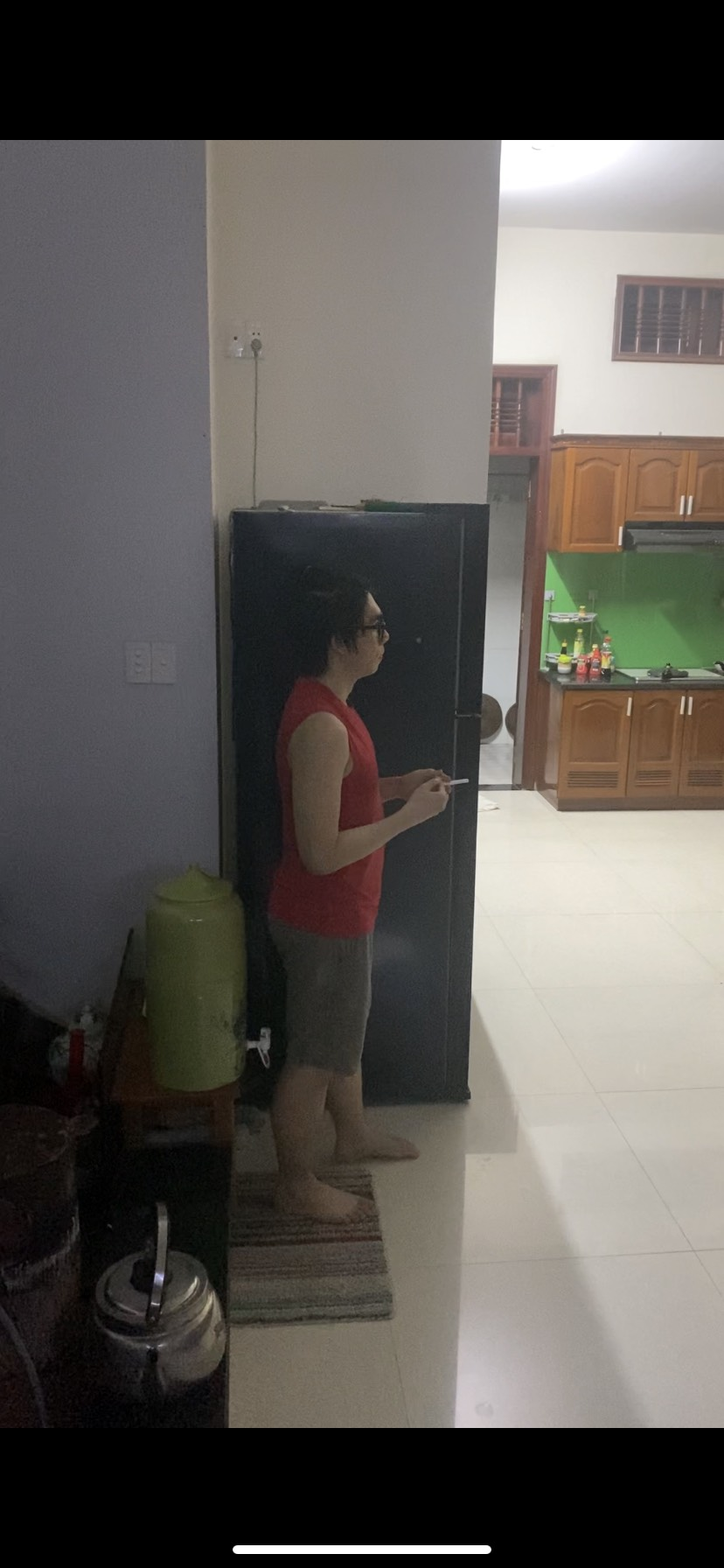cigarette: (450, 775, 473, 789)
person: (261, 561, 455, 1215)
